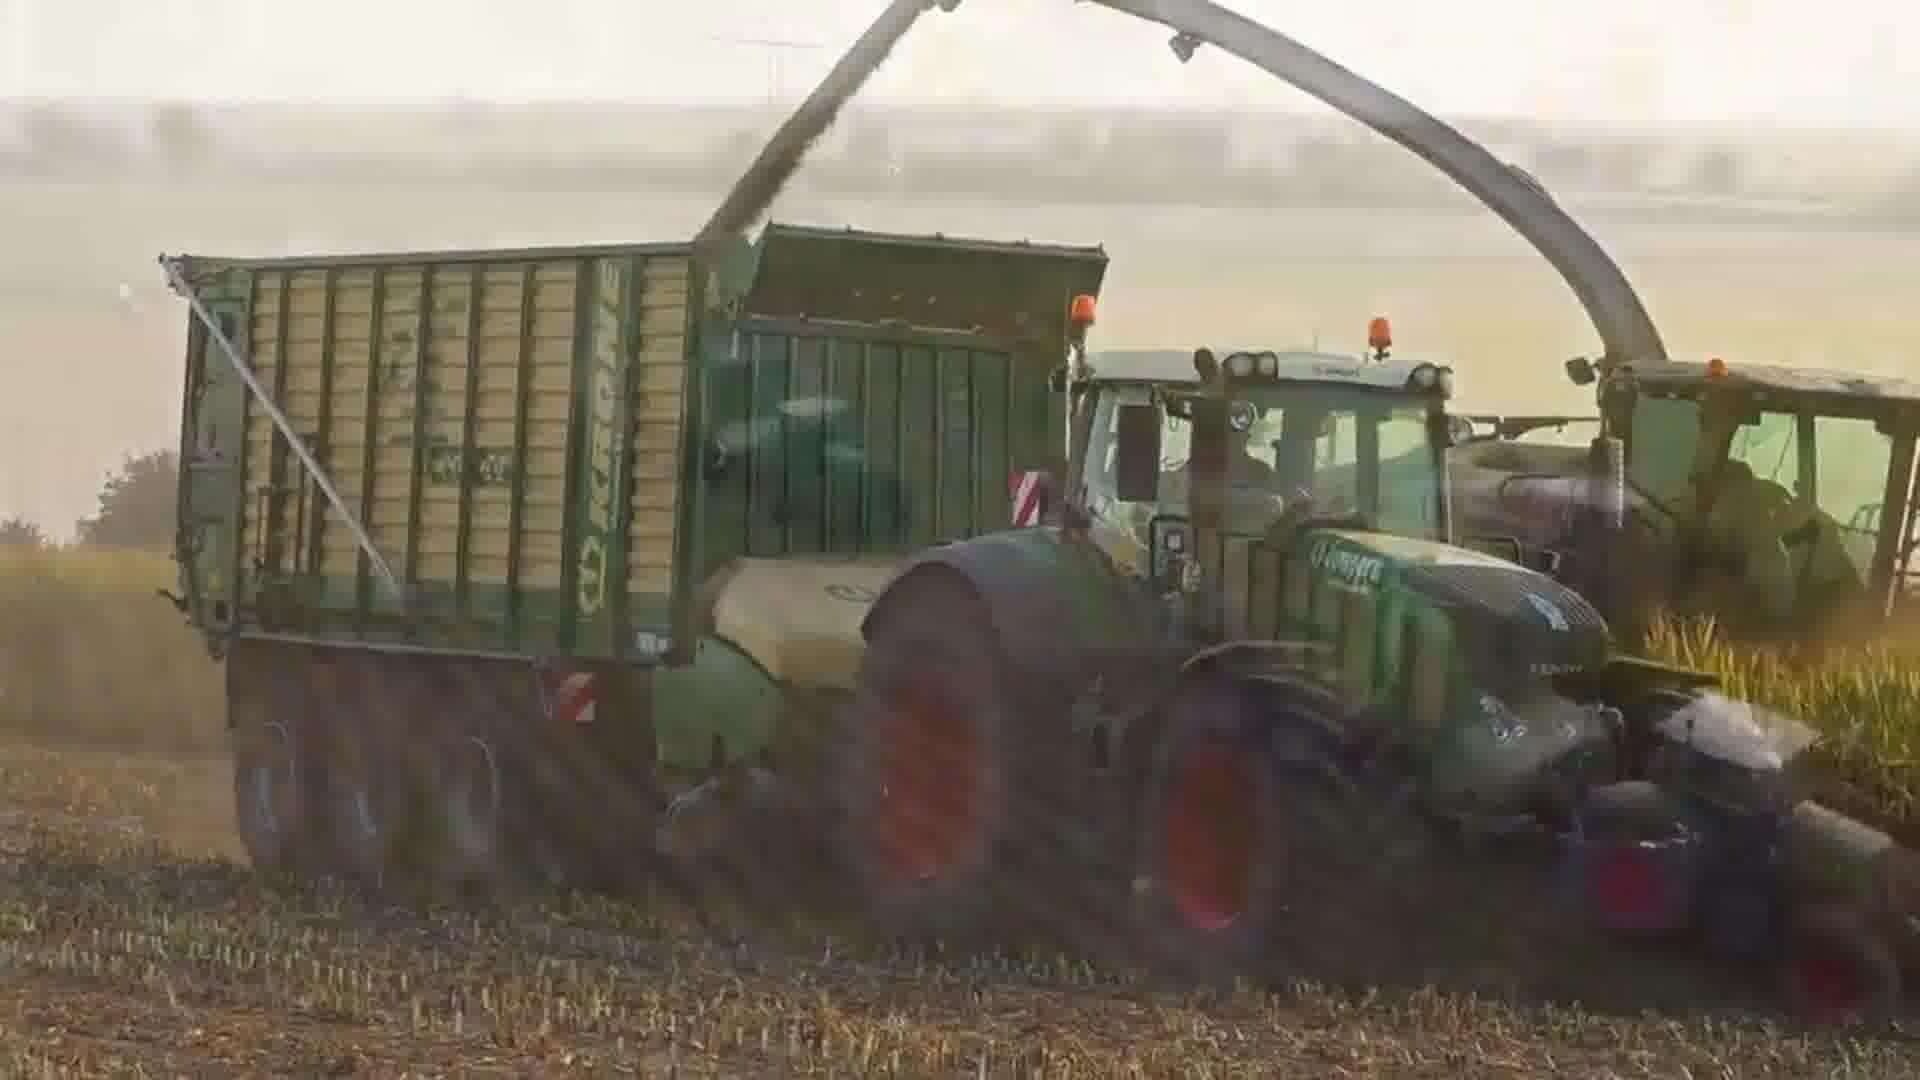combine harvester: (1067, 0, 1920, 667)
tractor: (829, 291, 1712, 1007)
trailer: (149, 210, 1126, 909)
